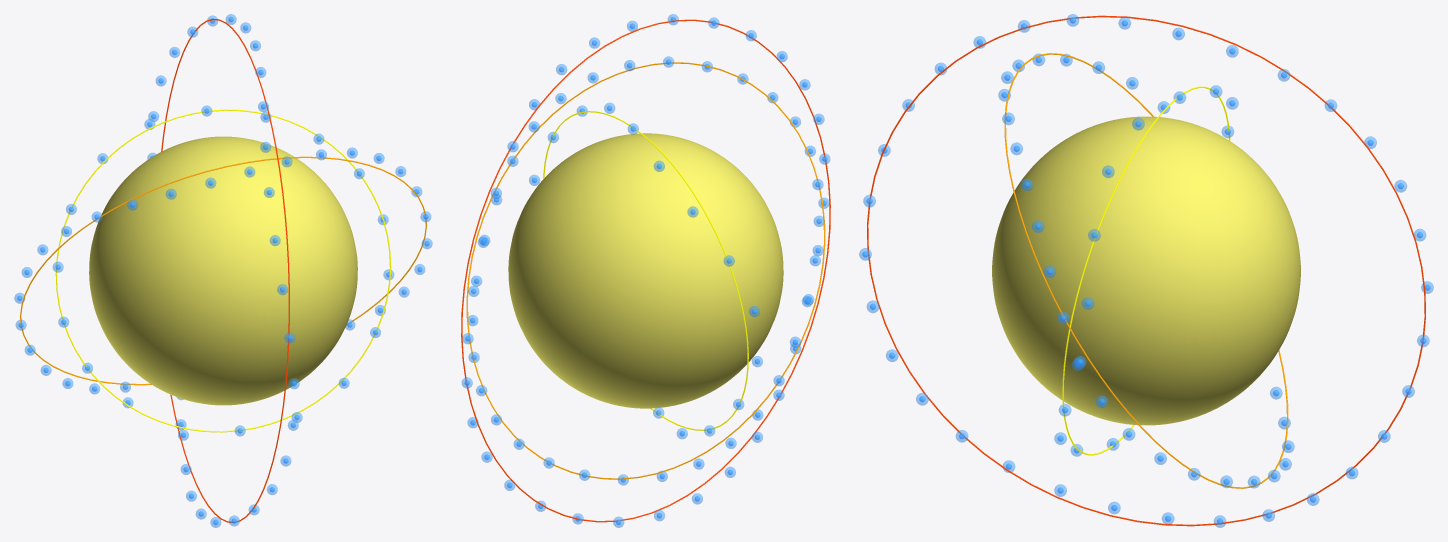
The picture shows the model from 3 angles, left to right: view 1: azimuth 30°, elevation 25°; view 2: azimuth 150°, elevation 25°; view 3: azimuth 270°, elevation 25°; orthographic projection. The views are drawn at different scales.
Parts seen in each view (by area): view 1: U, object 24, object 126, object 61; view 2: U, object 126, object 61, object 24; view 3: U, object 126, object 61, object 24.
Part boxes in pixels (x1,y1,x2,y2): U: (89,136,357,405); object 24: (55,109,391,432); object 126: (161,18,289,522); object 61: (20,156,426,385); U: (508,133,783,408); object 126: (461,19,830,522); object 61: (466,62,825,479); object 24: (543,111,748,430); U: (992,116,1300,425); object 126: (867,15,1425,526); object 61: (1004,53,1288,488); object 24: (1062,86,1230,455).
Size of the model in its own units: 6 by 7.31 by 7.15.
